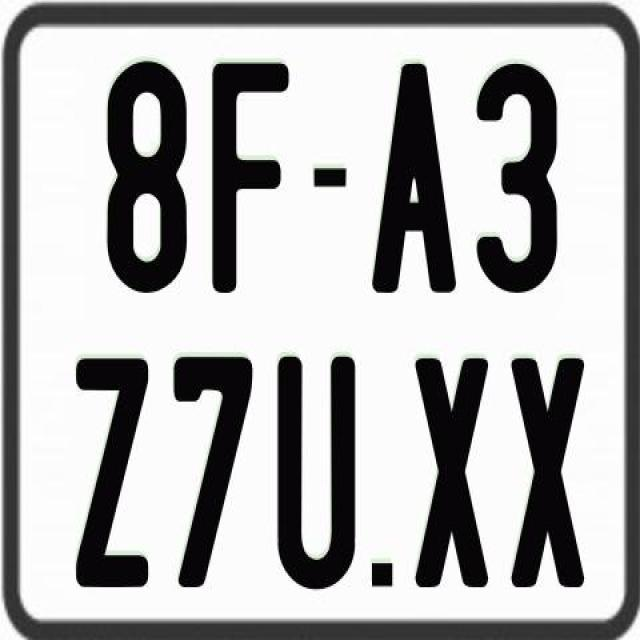3: (476, 61, 562, 290)
7: (173, 352, 252, 589)
8: (102, 60, 184, 298)
A: (372, 64, 456, 302)
F: (209, 61, 292, 294)
U: (277, 354, 360, 590)
X: (412, 357, 492, 587), (508, 357, 581, 590)
Z: (75, 355, 154, 587)
